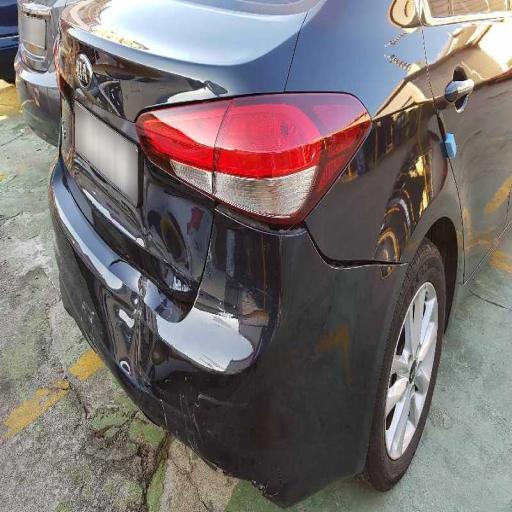broken: (206, 134, 429, 310)
dent: (85, 216, 203, 424)
